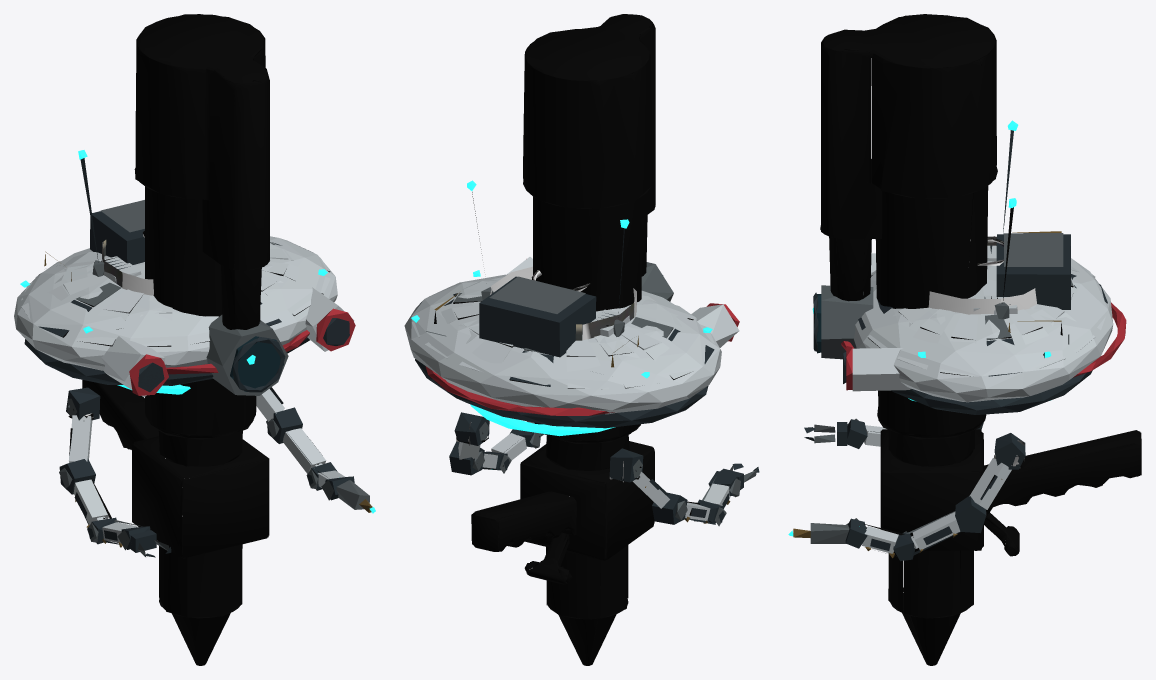
Rendered from spx-repair-drone-coarse.glb.
3 views of the same model, side by side, from view 1: azimuth 30°, elevation 25°; view 2: azimuth 150°, elevation 25°; view 3: azimuth 270°, elevation 25° (orthographic). The views are drawn at different scales.
Visible parts, largest first — view 1: SPX repair drone; view 2: SPX repair drone; view 3: SPX repair drone.
Boxes of the visible parts, x1=… form: SPX repair drone: x1=14, y1=14, x2=375, y2=665; SPX repair drone: x1=404, y1=14, x2=759, y2=665; SPX repair drone: x1=788, y1=14, x2=1141, y2=665.
Size of the model in its own units: 0.9839 by 1.98 by 1.01.
1 material, 1 textured.
